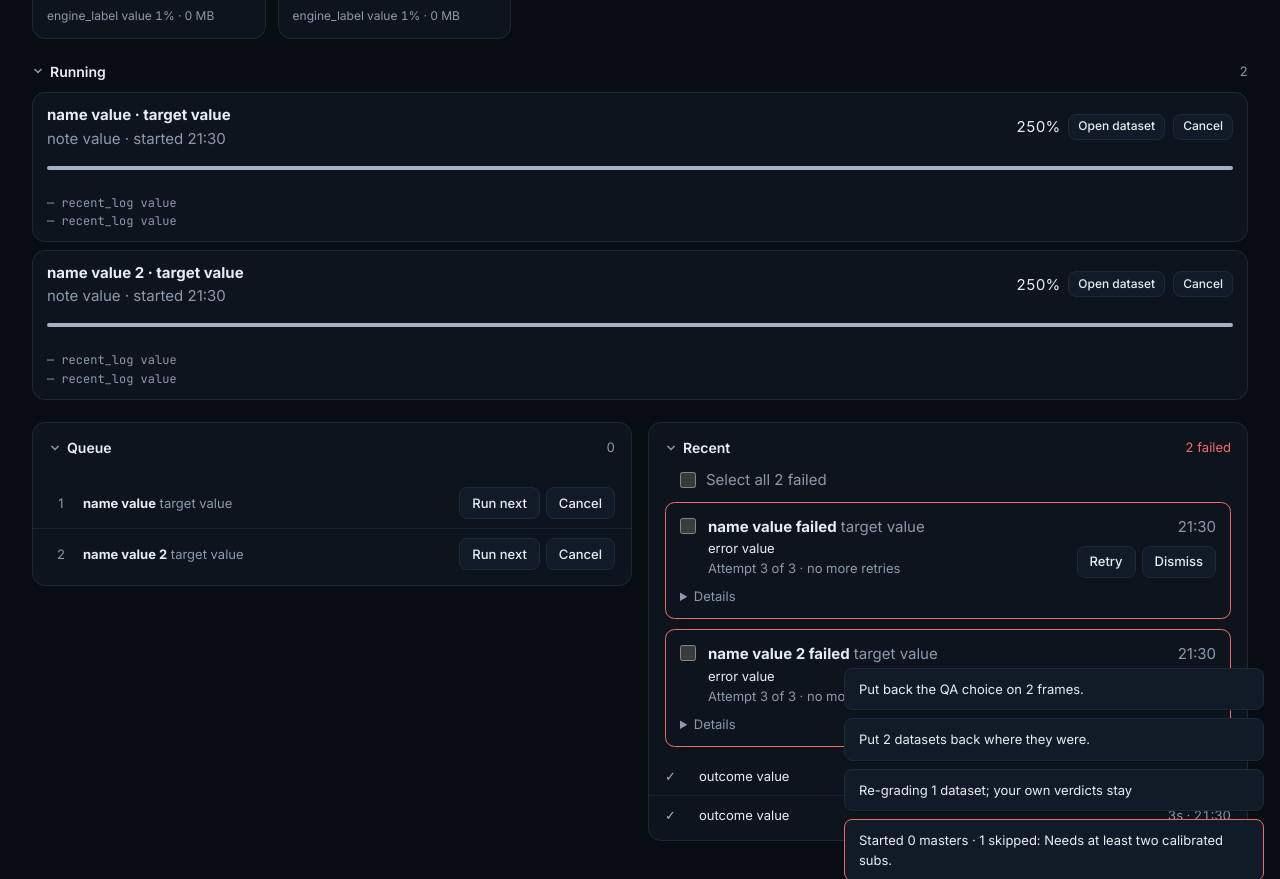
Scenario: bulk selection (spec 016 U6) › retries and dismisses several failed jobs; dismissing offers Undo
(page scrolled)
Click the checkbox named "Select all 2 failed jobs" at [688, 480], box [680,472,696,488]
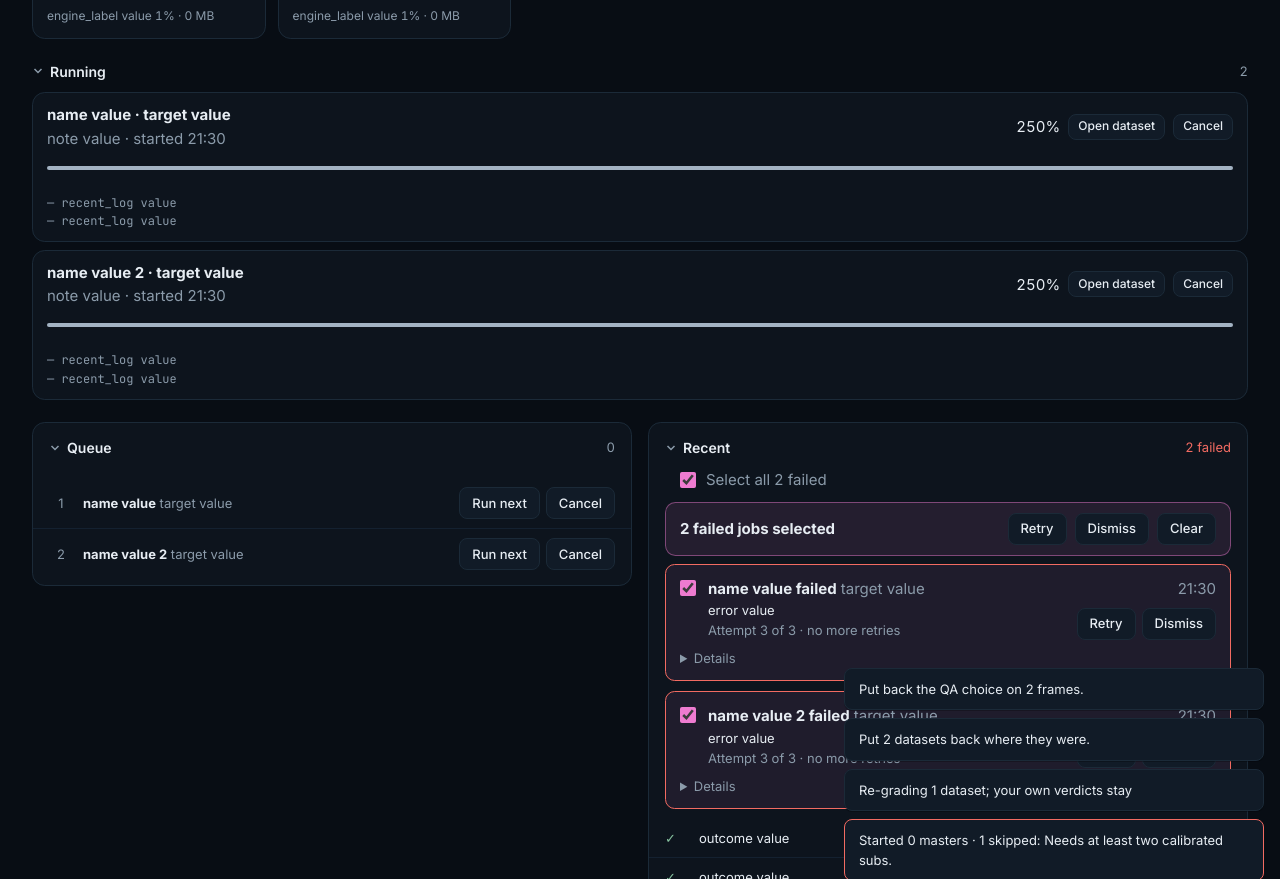
Result: the text "2 failed jobs selected" is shown at [680,517,835,540]
Click the button "Retry" in the row of "selected" at [1037, 529], box [1008,513,1066,545]
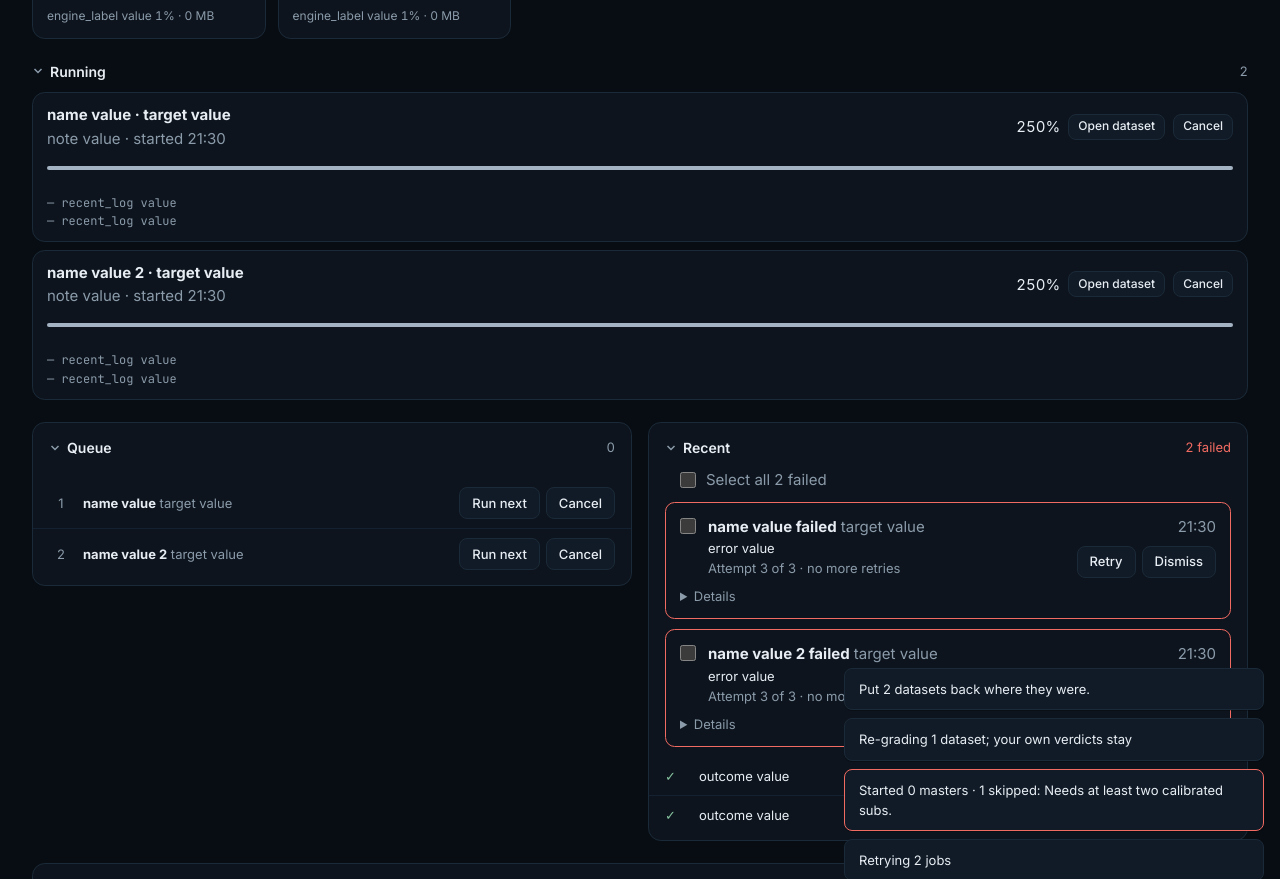
Result: the text "Retrying 2 jobs" is shown at [859,850,951,870]
Click the checkbox named "Select name value failed" at [688, 526], box [680,518,696,534]
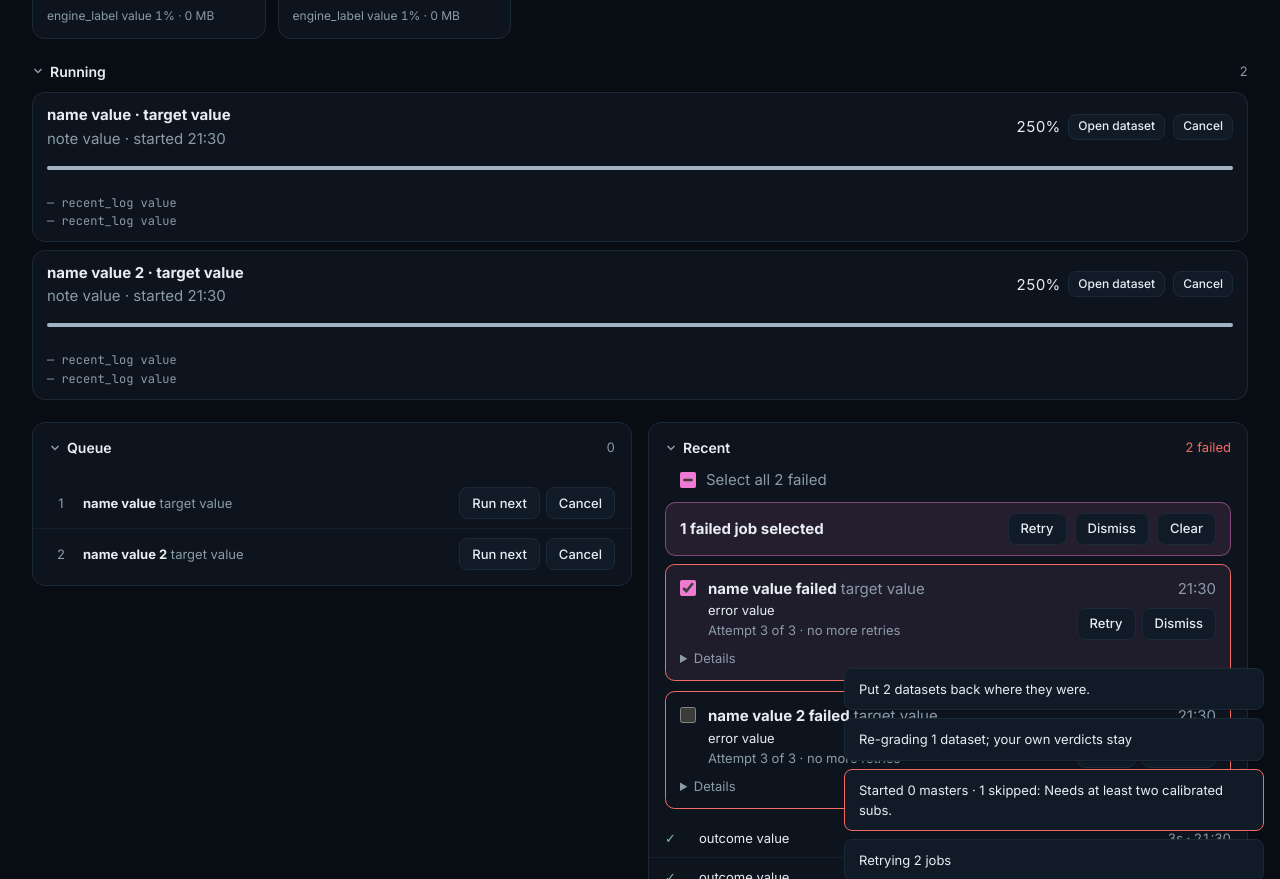
Click the checkbox named "Select name value 2 failed" at [688, 715], box [680,707,696,723]
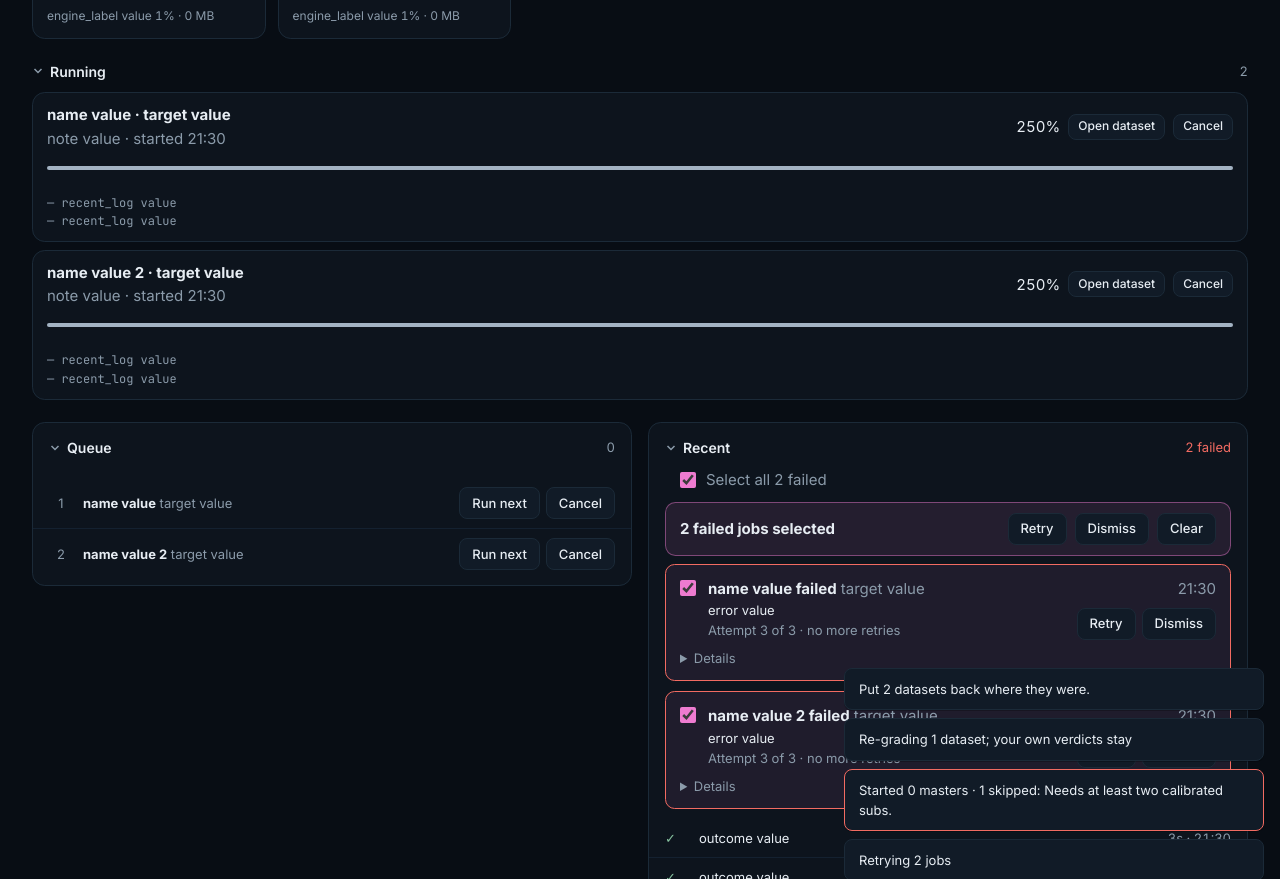
Click the button "Dismiss" in the row of "selected" at [1112, 529], box [1074,513,1149,545]
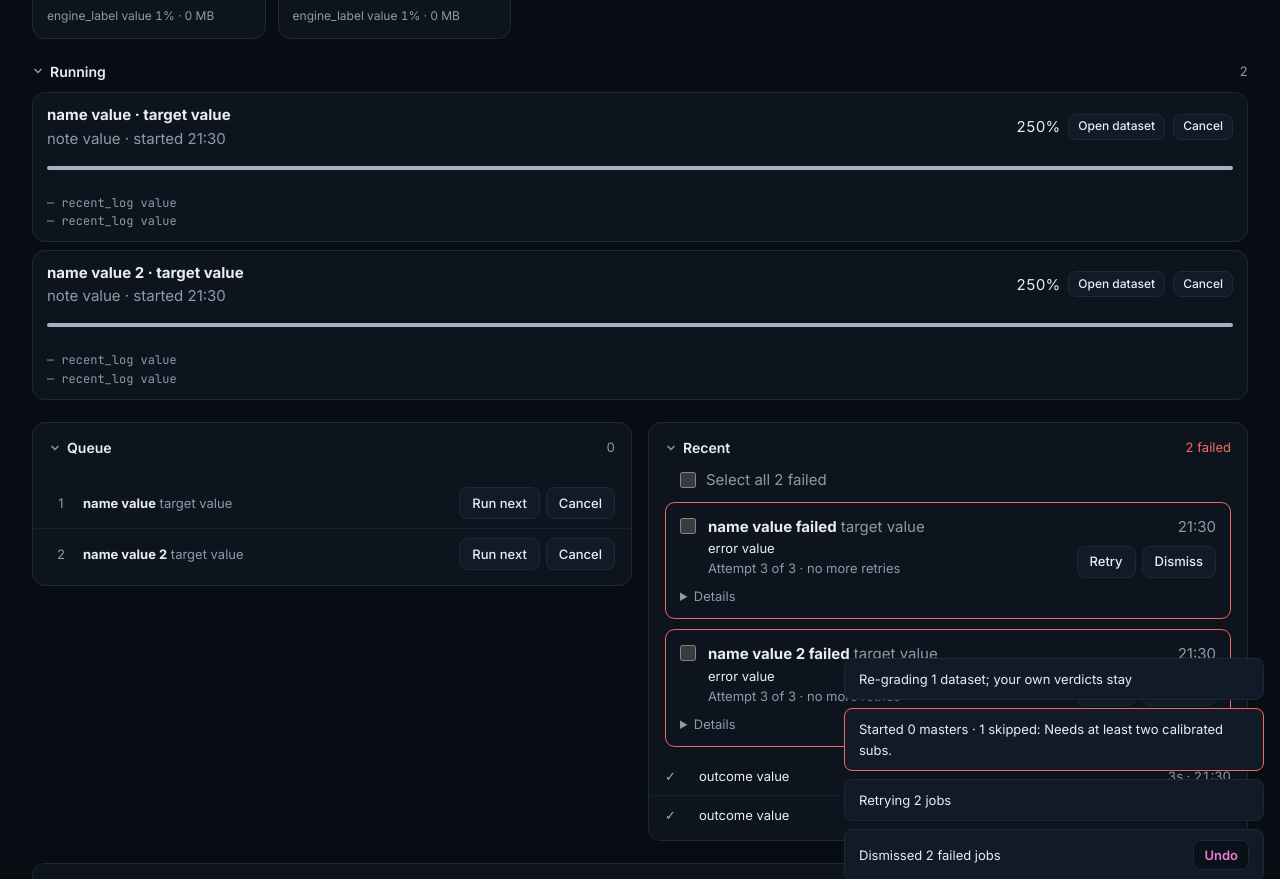
Result: the button "Undo" is shown at [1193,840,1249,870]
